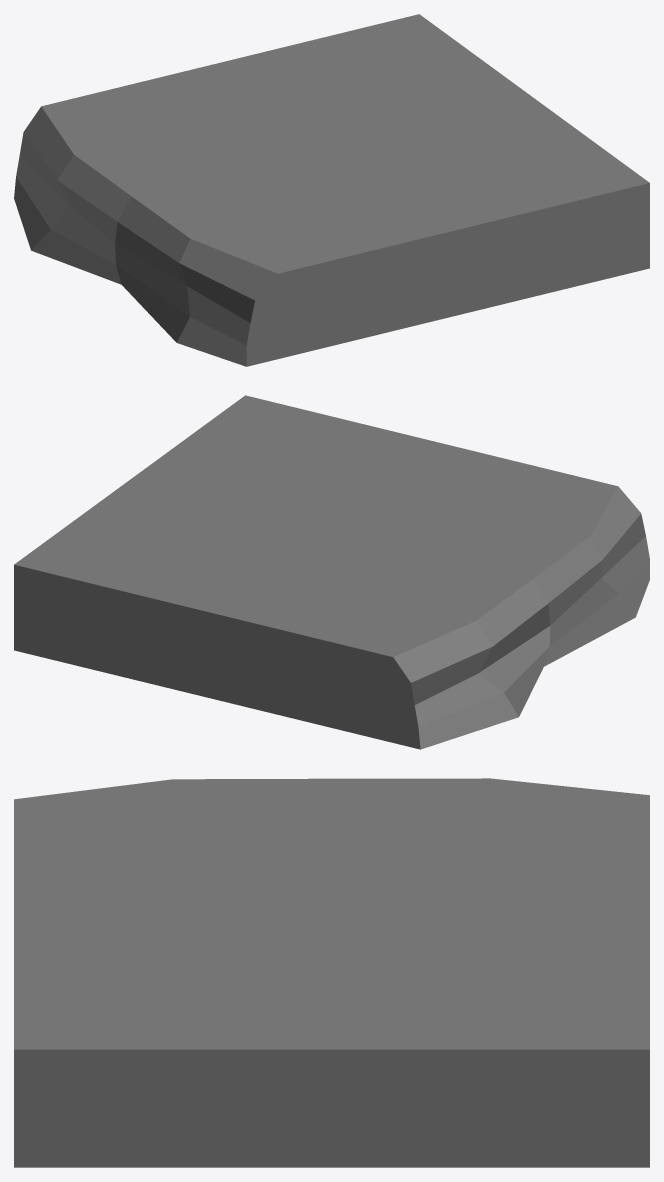
Rendered from floor_arena2.fbx.
3 renders of one model, top to bottom at view 1: azimuth 30°, elevation 25°; view 2: azimuth 150°, elevation 25°; view 3: azimuth 270°, elevation 25°, orthographic. The views are drawn at different scales.
Visible parts, largest first — view 1: floor_arena2; view 2: floor_arena2; view 3: floor_arena2.
Part boxes in pixels (bbox=[...]): floor_arena2: bbox=[14, 14, 649, 366]; floor_arena2: bbox=[14, 395, 649, 749]; floor_arena2: bbox=[14, 778, 649, 1167].
Bounding box in the file's own units: 9822 × 1800 × 8800.
